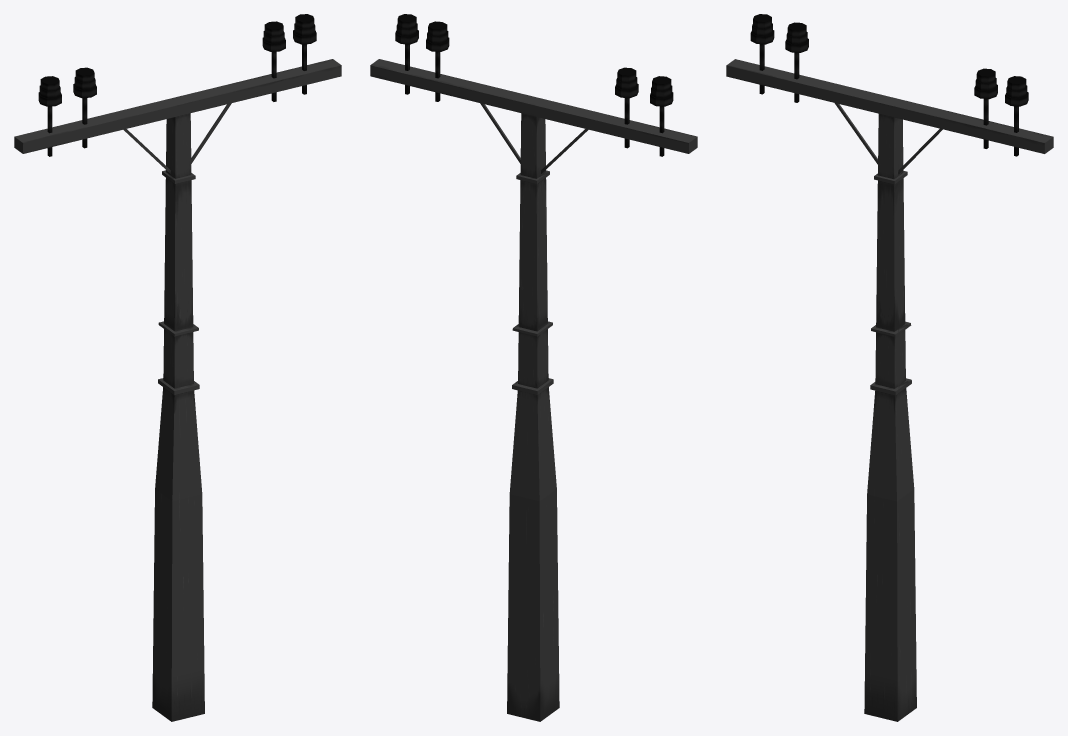
The model's file is CityKit2.fbx_LampPost.fbx.
3 renders of one model, left to right at view 1: azimuth 30°, elevation 25°; view 2: azimuth 150°, elevation 25°; view 3: azimuth 330°, elevation 25°, orthographic.
Visible parts, largest first — view 1: LampPost; view 2: LampPost; view 3: LampPost.
Part boxes in pixels (x1=…): LampPost: x1=14, y1=14, x2=341, y2=721; LampPost: x1=370, y1=14, x2=697, y2=721; LampPost: x1=726, y1=14, x2=1053, y2=721.
Bounding box in the file's own units: 727 × 1443 × 75.99.
1 material, 1 textured.
